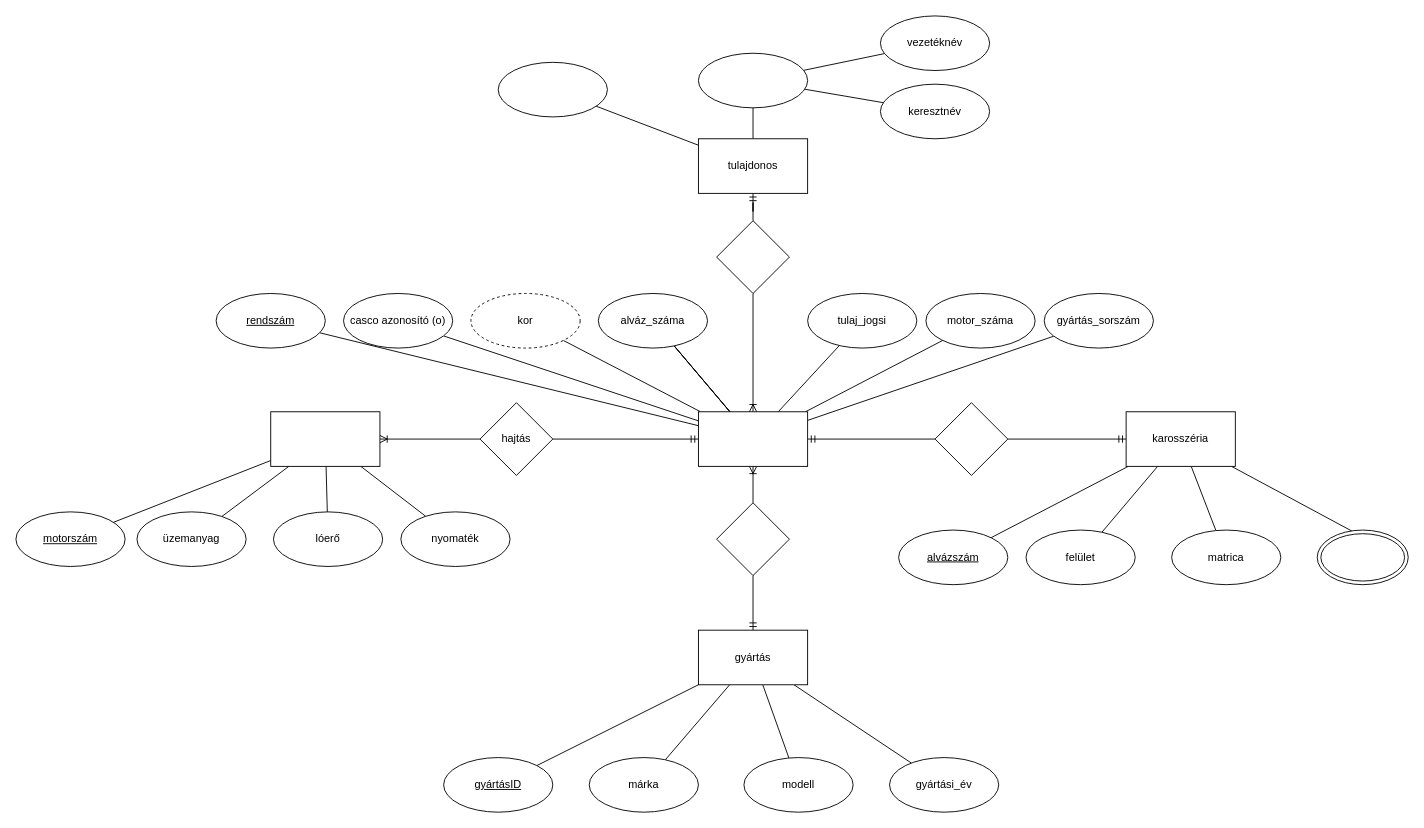
Image size: 1424x828. Some labels were removed from this diagram. The shapes that lost their labels are listed below. From the top down, each one's box as (x1, y1, x2, y2) in pixels, then its label:
(497, 61, 607, 117): jogosítvány_száma
(698, 52, 808, 108): név
(716, 220, 789, 293): birtoklás
(270, 411, 380, 466): motor
(698, 411, 808, 466): személygépjármű
(934, 402, 1008, 475): tartalmazás
(716, 502, 789, 576): legyártás
(1316, 529, 1408, 585): szín
